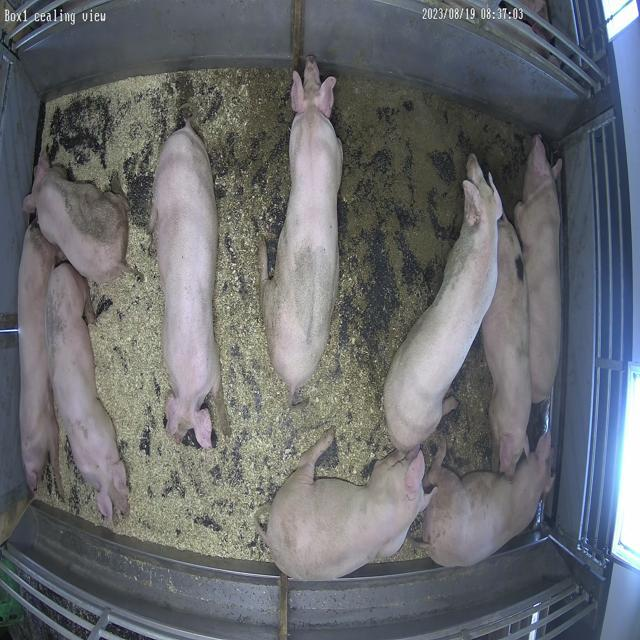Dirt: (330, 76, 529, 400), (185, 69, 291, 238), (439, 342, 492, 472)
Pig: (384, 154, 504, 452), (263, 57, 343, 404), (256, 431, 432, 582), (151, 119, 228, 449), (46, 263, 128, 520), (424, 434, 555, 568), (483, 214, 533, 476), (516, 135, 563, 404), (17, 222, 60, 492)
